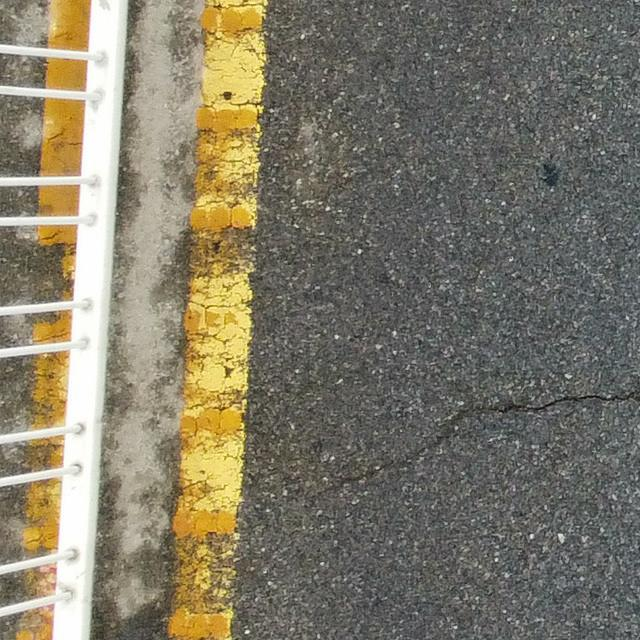TransverseCrack: (313, 389, 640, 503)
